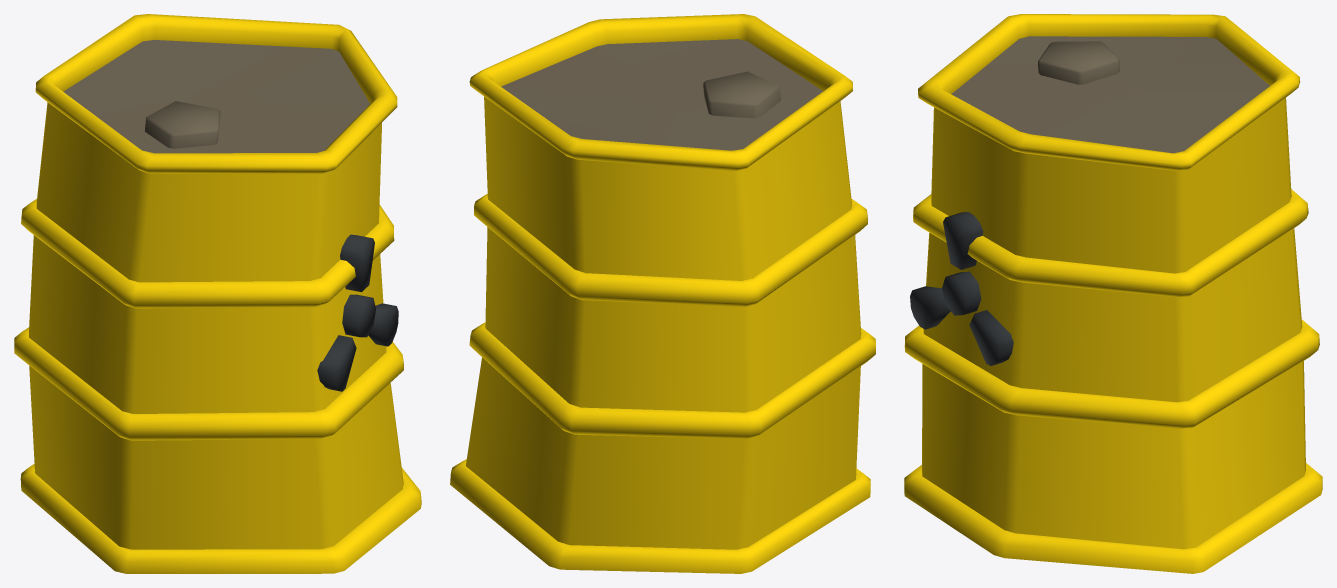
File: props_radioactiveCan.fbx
3 views of the same model, side by side, from view 1: azimuth 30°, elevation 25°; view 2: azimuth 150°, elevation 25°; view 3: azimuth 270°, elevation 25° (orthographic).
Visible parts, largest first — view 1: can; view 2: can; view 3: can.
Boxes of the visible parts, x1,y1,x2,y2 form: can: [14, 14, 421, 573]; can: [450, 14, 875, 573]; can: [904, 14, 1322, 573].
Bounding box in the file's own units: 122 × 146 × 133.
